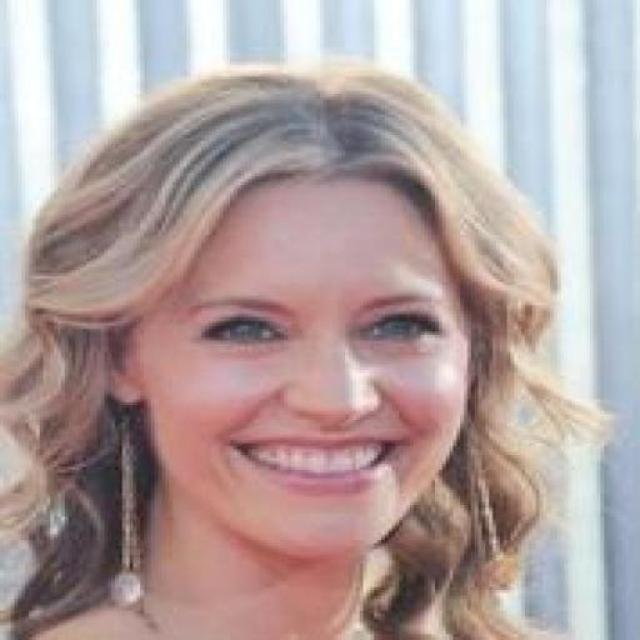bareface: (100, 138, 480, 580)
